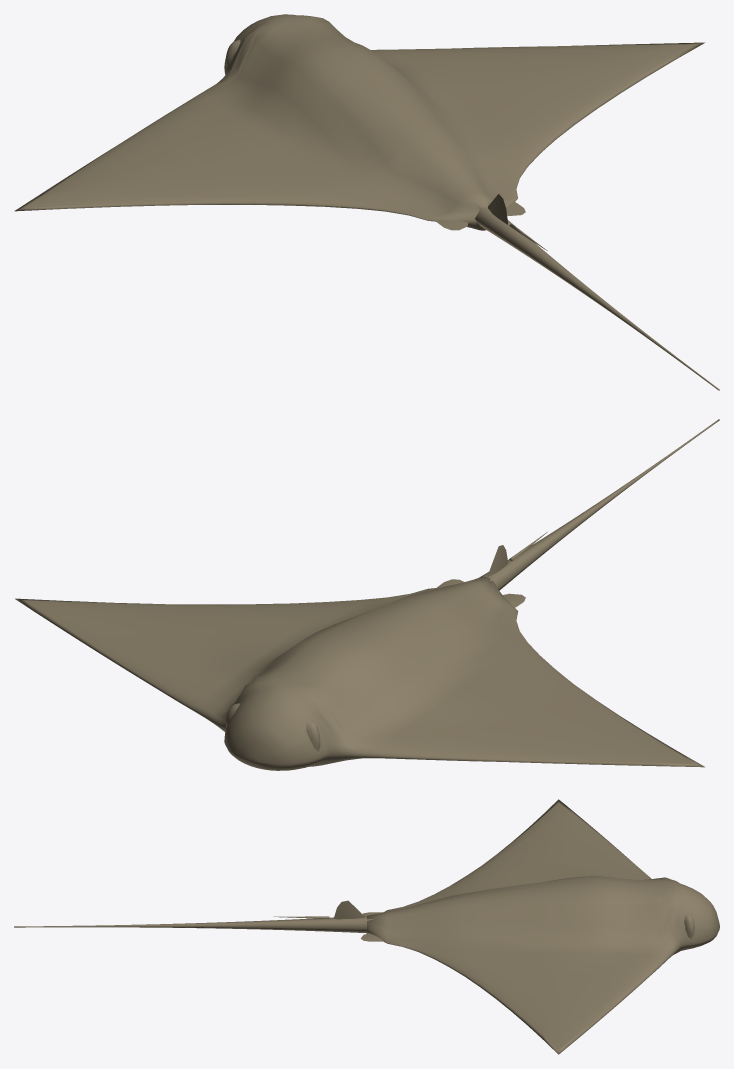
Rendered from bat_ray_lo.glb.
The picture shows the model from 3 angles, top to bottom: view 1: azimuth 30°, elevation 25°; view 2: azimuth 150°, elevation 25°; view 3: azimuth 270°, elevation 25°; orthographic projection. The views are drawn at different scales.
Visible parts, largest first — view 1: bat_ray_lo; view 2: bat_ray_lo; view 3: bat_ray_lo.
Part boxes in pixels (bbox=[...]): bat_ray_lo: bbox=[14, 14, 719, 390]; bat_ray_lo: bbox=[15, 419, 719, 770]; bat_ray_lo: bbox=[14, 799, 719, 1054].
Size of the model in its own units: 1.2 by 0.1428 by 1.4.
